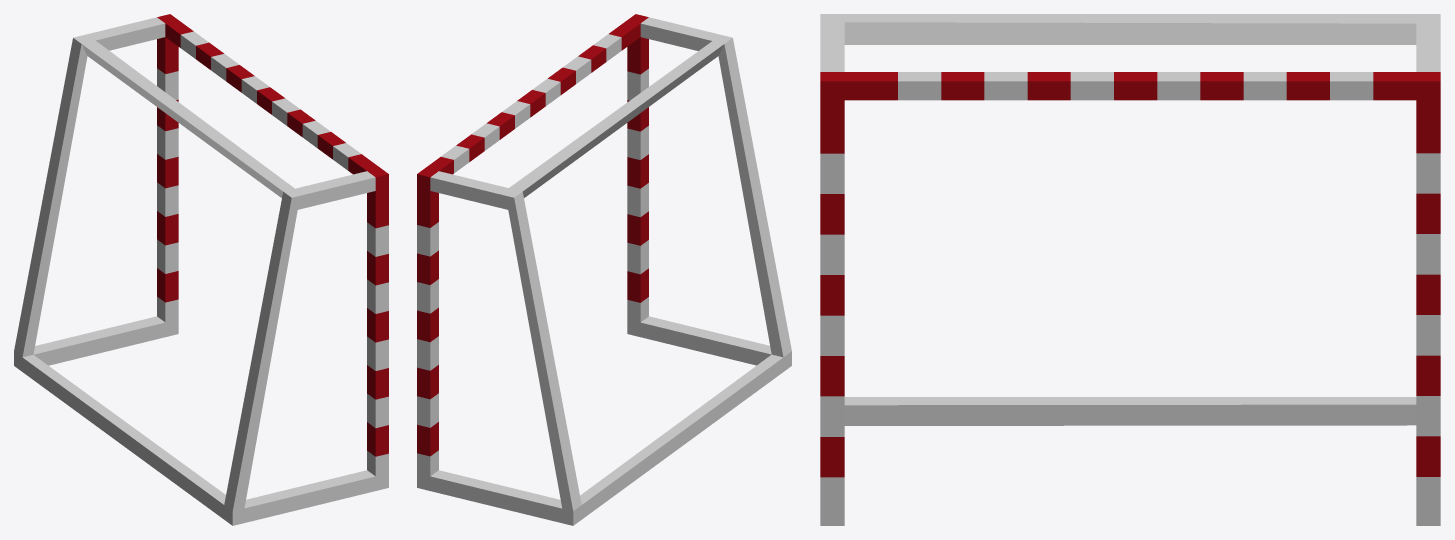
File: Porteria.fbx
3 renders of one model, left to right at view 1: azimuth 30°, elevation 25°; view 2: azimuth 150°, elevation 25°; view 3: azimuth 270°, elevation 25°, orthographic. The views are drawn at different scales.
Visible parts, largest first — view 1: Cube; view 2: Cube; view 3: Cube.
Boxes of the visible parts, x1,y1,x2,y2 form: Cube: (14,14,388,525); Cube: (417,14,791,525); Cube: (820,14,1440,525).
Bounding box in the file's own units: 39.36 × 75.53 × 95.44.
